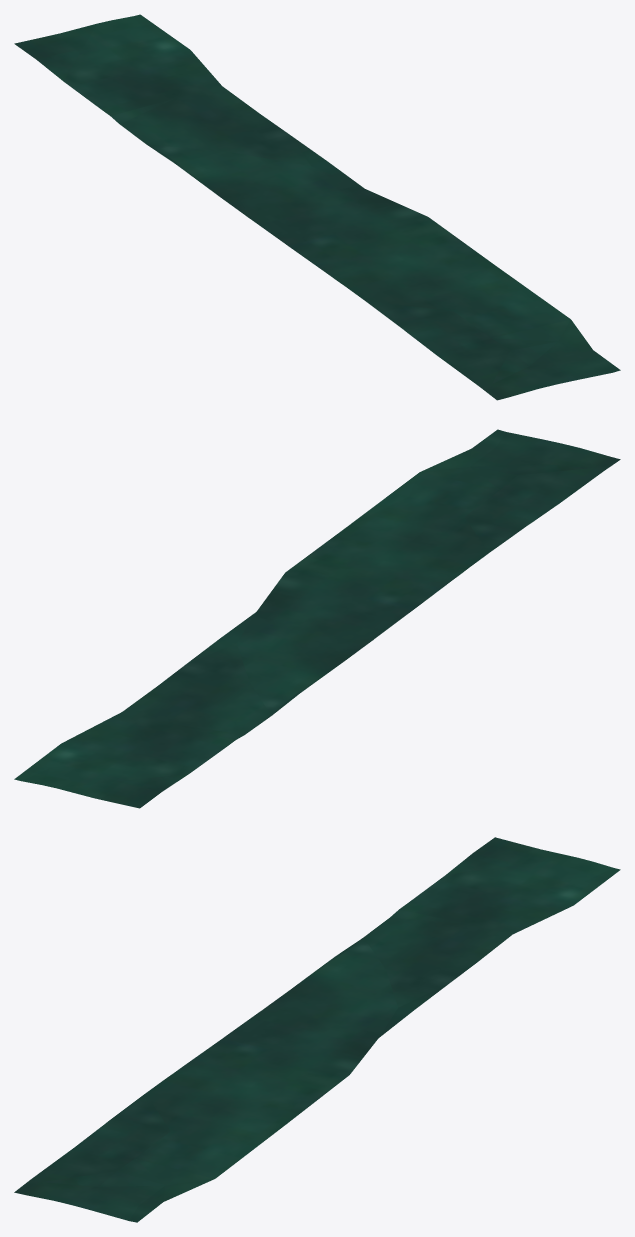
3 renders of one model, top to bottom at view 1: azimuth 30°, elevation 25°; view 2: azimuth 150°, elevation 25°; view 3: azimuth 330°, elevation 25°, orthographic.
Bounding box in the file's own units: 8.61 × 0.2521 × 52.22.
1 material, 1 textured.
